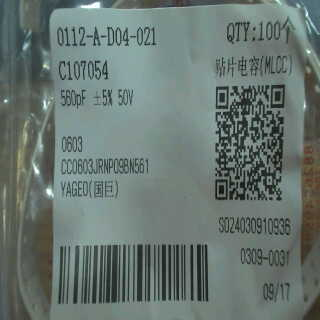560pF: (57, 85, 89, 111)
